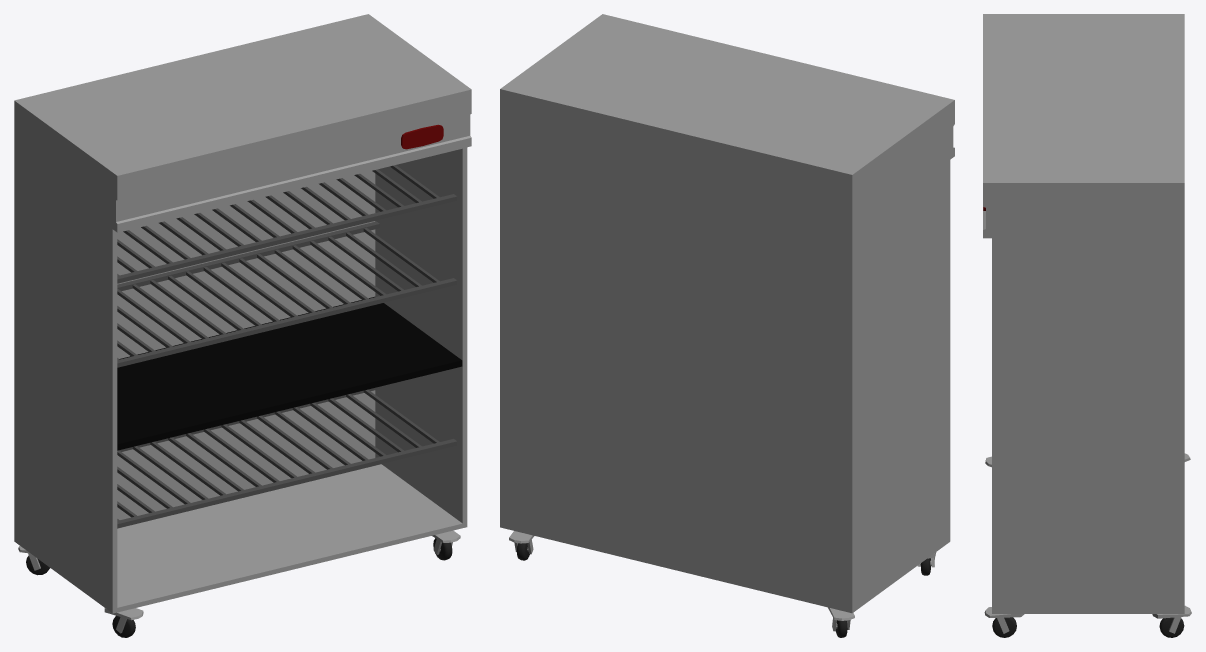
The model's file is prop-fridge1-flusha.fbx.
The picture shows the model from 3 angles, left to right: view 1: azimuth 30°, elevation 25°; view 2: azimuth 150°, elevation 25°; view 3: azimuth 270°, elevation 25°; orthographic projection. The views are drawn at different scales.
Parts seen in each view (by area): view 1: Prop_Fridge_02_p01; view 2: Prop_Fridge_02_p01; view 3: Prop_Fridge_02_p01.
Part boxes in pixels (x1,y1,x2,y2): Prop_Fridge_02_p01: (14, 14, 471, 637); Prop_Fridge_02_p01: (500, 14, 954, 637); Prop_Fridge_02_p01: (983, 14, 1191, 637).
Bounding box in the file's own units: 161 × 206 × 84.14.
